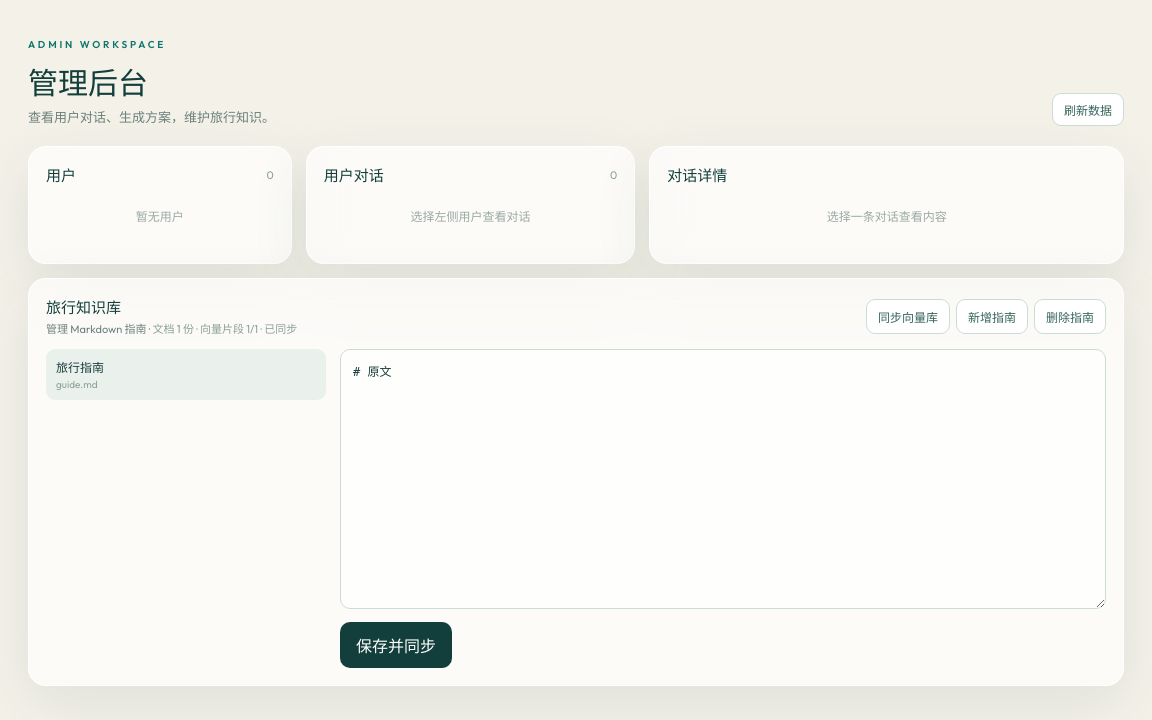
Scenario: AdminPanel guide editor › preserves unsaved text and reports a stale-version conflict
Step 1. Replace the text in the text box with "# 未保存的内容" → (723, 479), box top-left (340, 349), bottom-right (1106, 609)
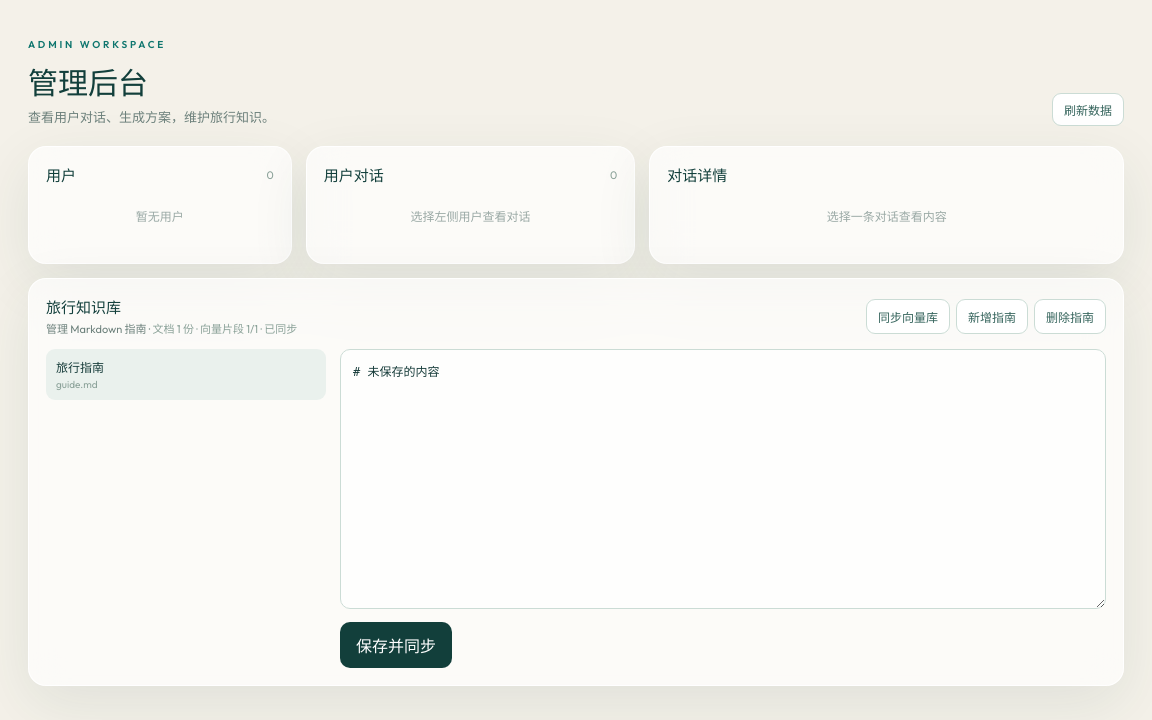
Step 2. Click the button with class "admin-action" → (396, 645), box top-left (340, 622), bottom-right (452, 668)
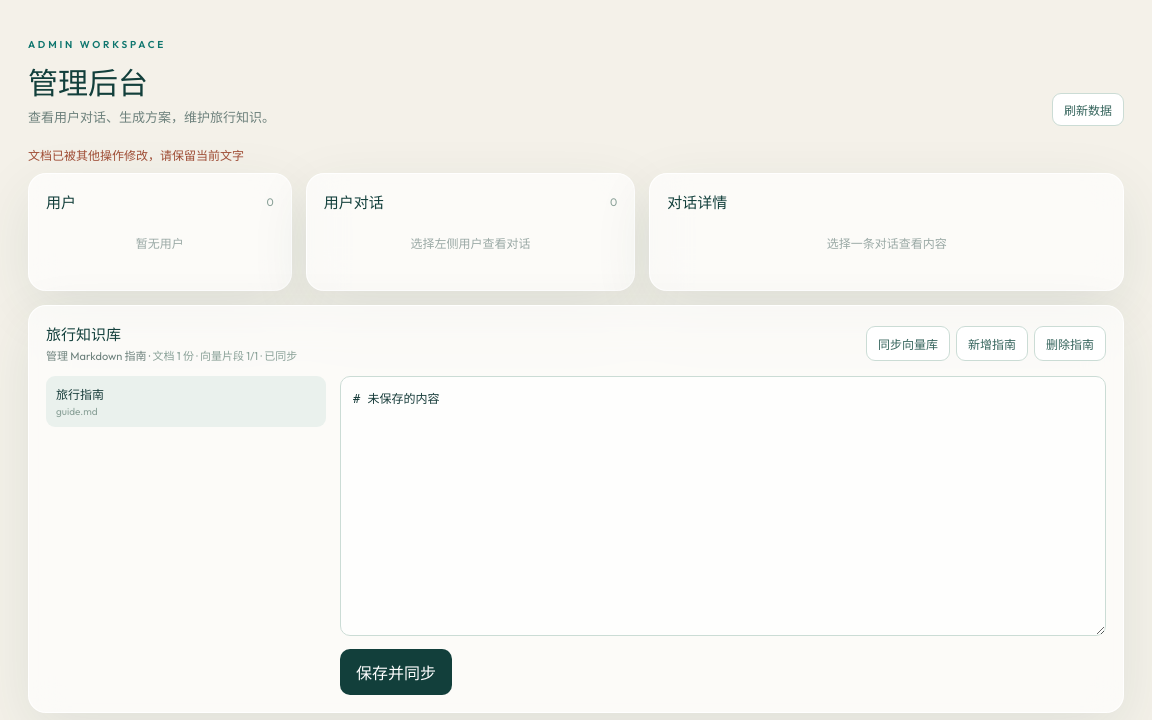
Expected: the text with class "auth-error" shows "文档已被其他操作修改", top-left (28, 148), bottom-right (244, 163)
